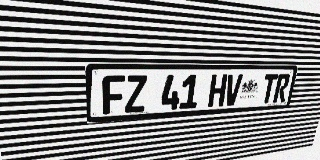1: (179, 75, 200, 109)
4: (161, 75, 182, 110)
F: (102, 75, 125, 115)
H: (208, 74, 228, 107)
R: (273, 74, 291, 103)
T: (260, 74, 278, 104)
V: (223, 74, 243, 106)
Z: (125, 75, 147, 113)
